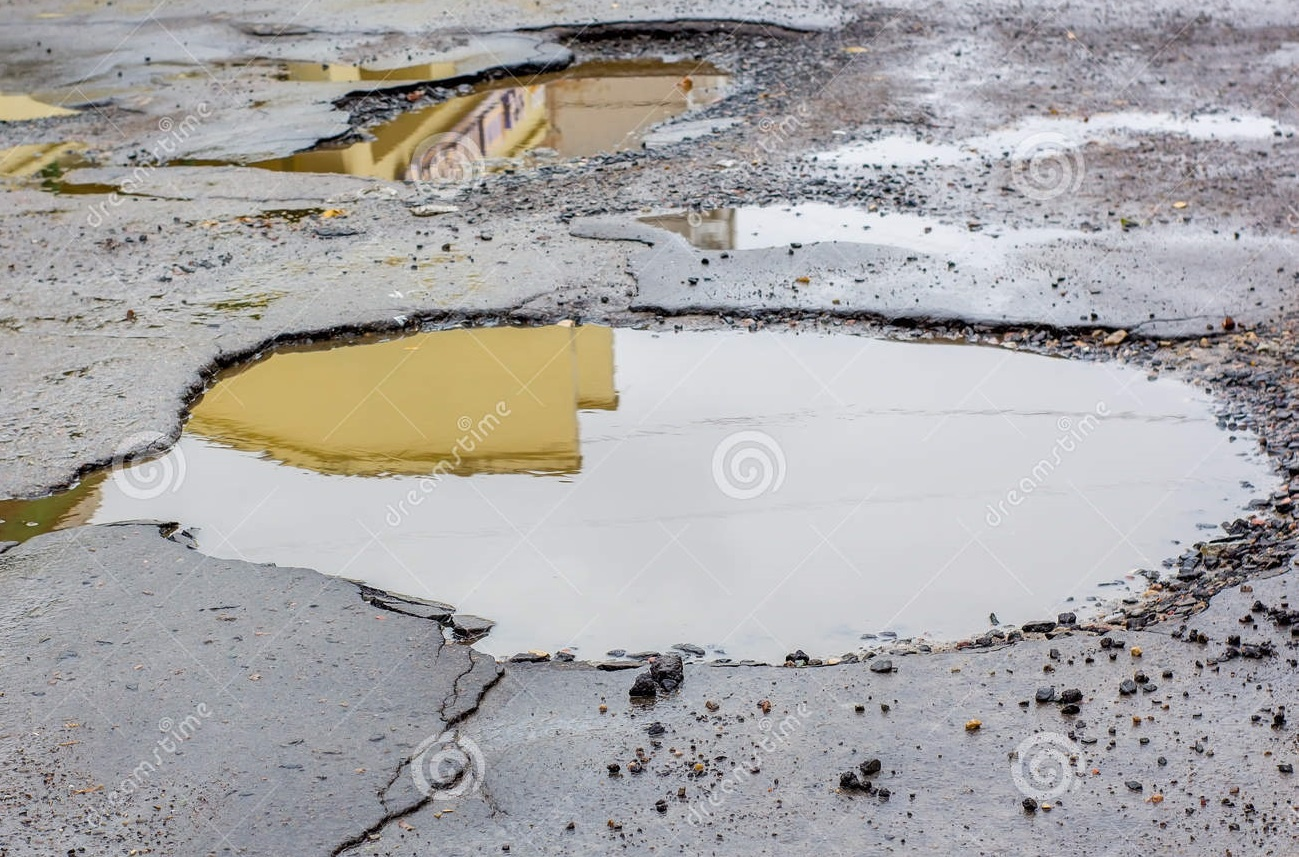pothole: (44, 201, 1286, 723)
